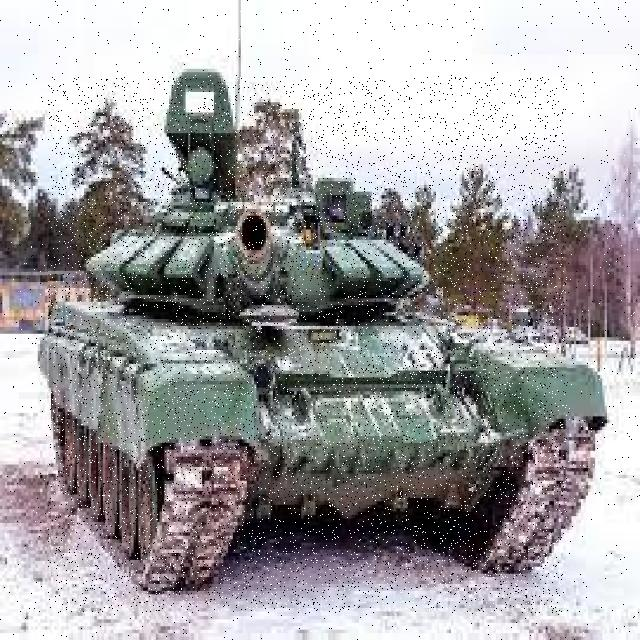MIL_MBT: (48, 78, 567, 613)
